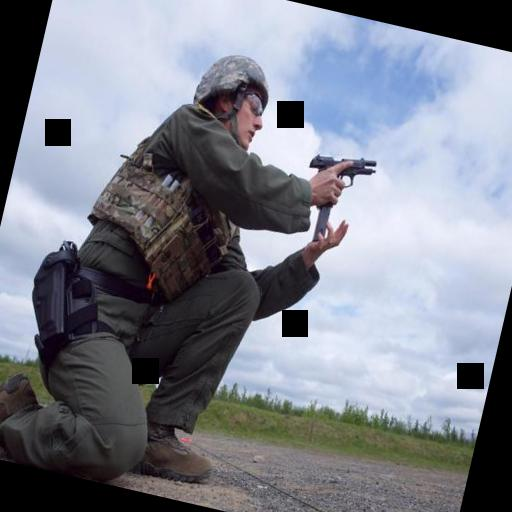Handgun: (304, 143, 382, 191)
